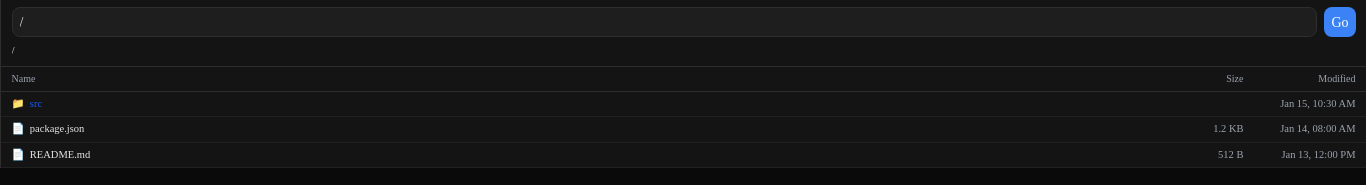
Test: FileBrowser › error handling › clears entries on directory error
The width and height of the screenshot is (1366, 185).
Check: the text "src" is shown, box [30, 98, 42, 109]
Replace the text in the field with placeholder "Absolute path..." with "/bad/path" at point(664, 22), box [12, 7, 1317, 37]
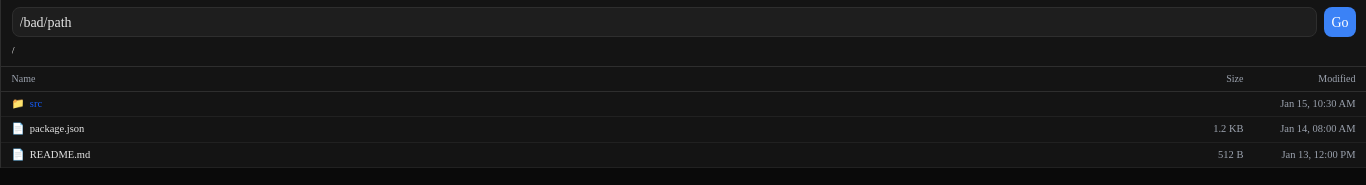
Click the button "Go" at point(1340, 22), box [1324, 7, 1356, 37]
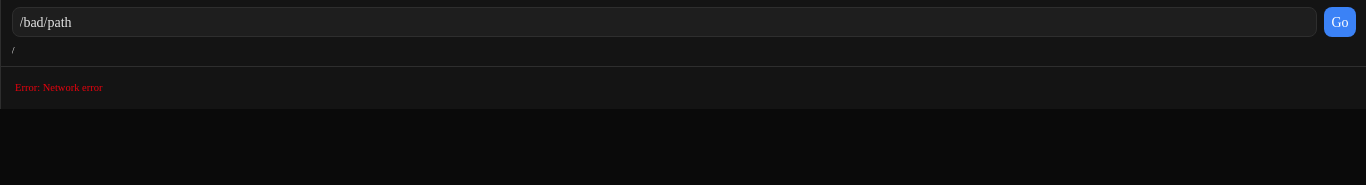
Check: the text "Error: Network error" is shown, box [15, 82, 102, 93]
Check: the text "src" is gone
